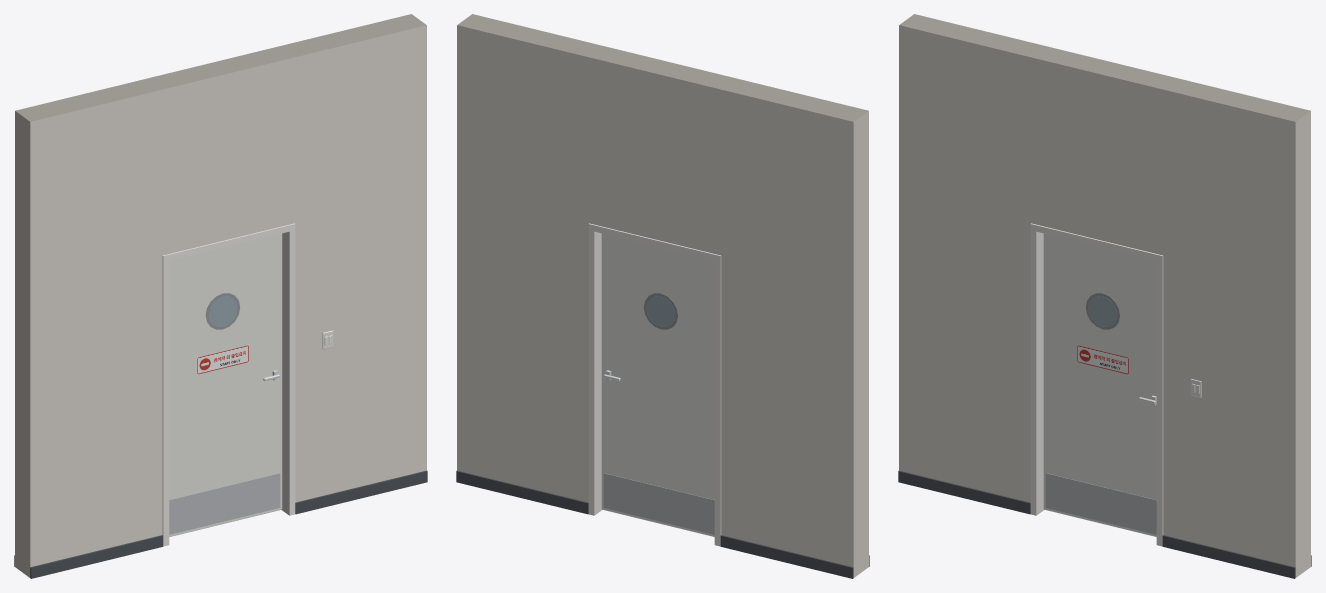
Rendered from SC_Bld_Store_Wall_Interior_Door_3m.gltf.
The picture shows the model from 3 angles, left to right: view 1: azimuth 30°, elevation 25°; view 2: azimuth 150°, elevation 25°; view 3: azimuth 330°, elevation 25°; orthographic projection.
Visible parts, largest first — view 1: SC_Bld_Store_Wall_Interior_Door_3m; view 2: SC_Bld_Store_Wall_Interior_Door_3m; view 3: SC_Bld_Store_Wall_Interior_Door_3m.
Boxes of the visible parts, box(x1,y1,x2,y2) form: SC_Bld_Store_Wall_Interior_Door_3m: box(14, 14, 427, 578); SC_Bld_Store_Wall_Interior_Door_3m: box(456, 14, 869, 578); SC_Bld_Store_Wall_Interior_Door_3m: box(898, 14, 1311, 578).
Bounding box in the file's own units: 3 × 3.3 × 0.226.
3 materials, 3 textured.
